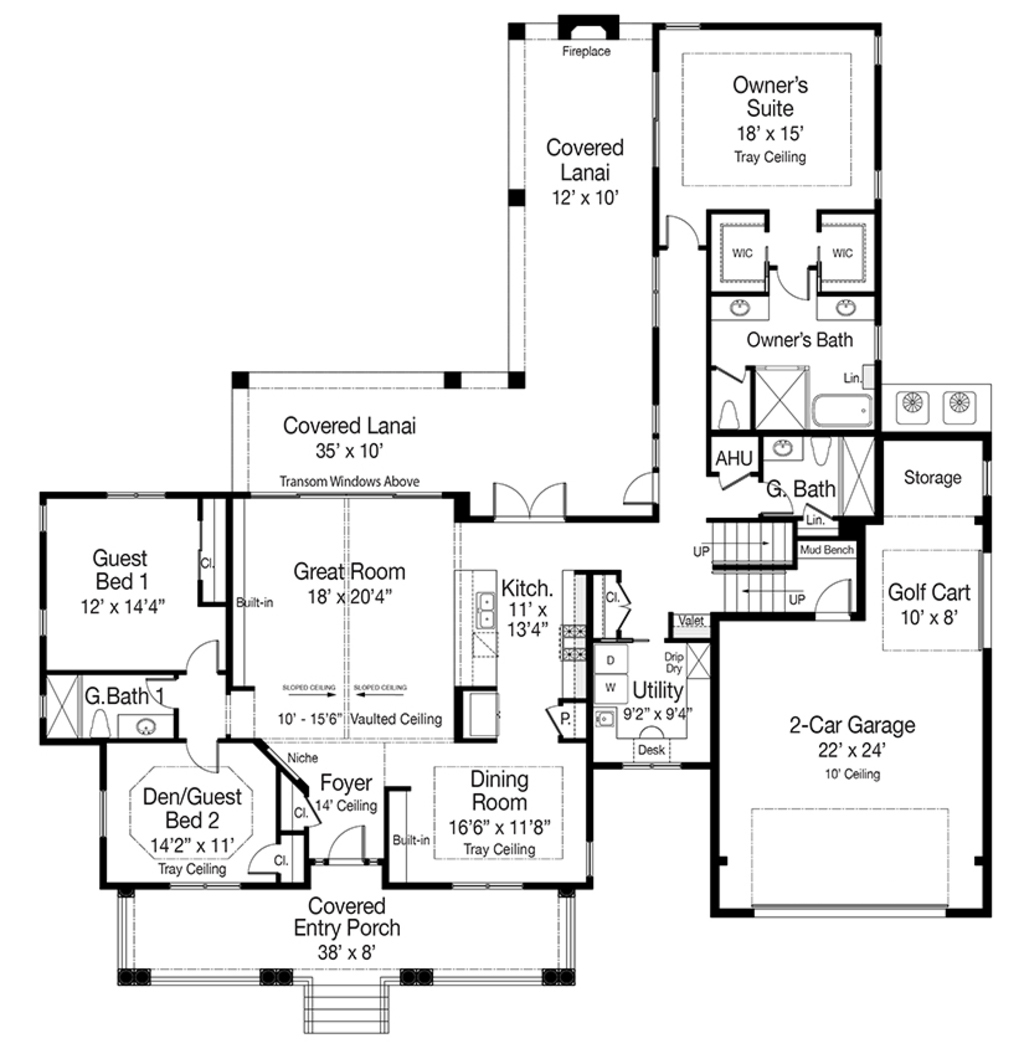door: (486, 483, 569, 521), (325, 822, 371, 869), (811, 578, 858, 624), (662, 209, 705, 249), (181, 736, 222, 776), (620, 468, 660, 508), (182, 636, 224, 674), (773, 263, 812, 300), (243, 840, 282, 876)
large_sink: (714, 398, 745, 435), (81, 707, 115, 740)
small_sink: (814, 293, 887, 323), (709, 295, 775, 321), (116, 714, 177, 739), (758, 433, 806, 463)
stairs: (688, 514, 806, 620), (297, 975, 395, 1041)
tub: (806, 389, 877, 433)
twin_sink: (472, 588, 499, 639)
windows: (163, 879, 254, 897), (648, 65, 663, 174), (648, 250, 664, 332), (98, 489, 170, 505), (448, 877, 522, 892), (620, 759, 685, 772), (34, 604, 50, 641), (982, 457, 993, 498)
